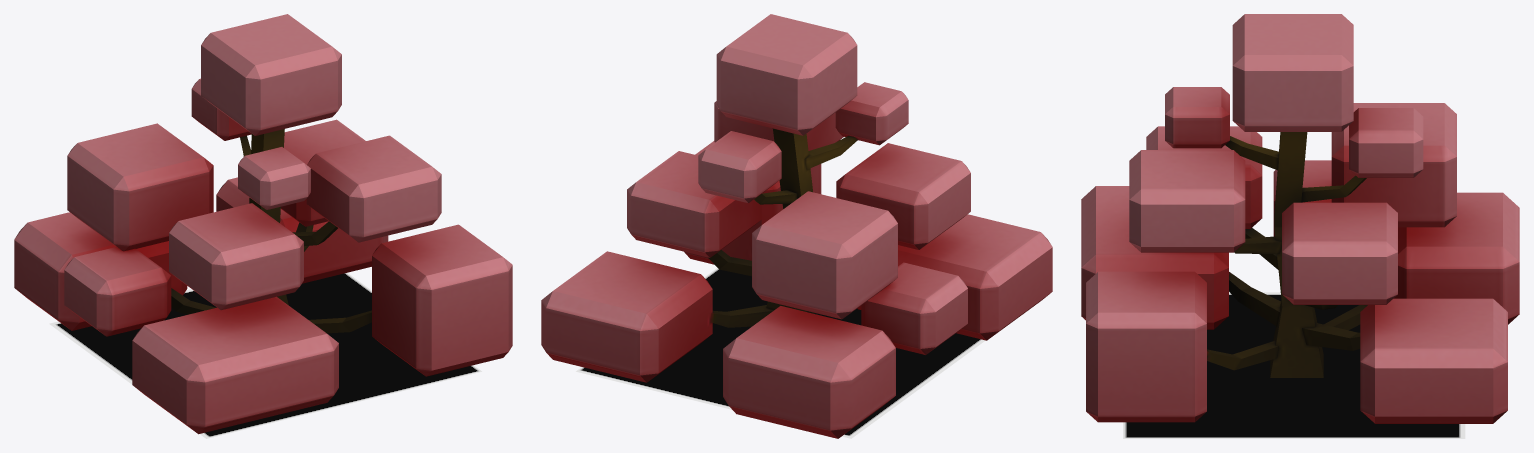
File: 3x3_cherry_tree.FBX
3 views of the same model, side by side, from view 1: azimuth 30°, elevation 25°; view 2: azimuth 150°, elevation 25°; view 3: azimuth 270°, elevation 25° (orthographic). The views are drawn at different scales.
Parts seen in each view (by area): view 1: 3x3_cherry_tree, 3x3_cherry_tree_soft_shadow; view 2: 3x3_cherry_tree, 3x3_cherry_tree_soft_shadow; view 3: 3x3_cherry_tree, 3x3_cherry_tree_soft_shadow.
Boxes of the visible parts, bbox=[...] form: 3x3_cherry_tree: bbox=[14, 14, 512, 434]; 3x3_cherry_tree_soft_shadow: bbox=[49, 272, 481, 438]; 3x3_cherry_tree: bbox=[541, 14, 1052, 438]; 3x3_cherry_tree_soft_shadow: bbox=[576, 268, 985, 438]; 3x3_cherry_tree: bbox=[1081, 14, 1519, 423]; 3x3_cherry_tree_soft_shadow: bbox=[1123, 292, 1465, 438].
Size of the model in its own units: 2675 by 2392 by 2809.
